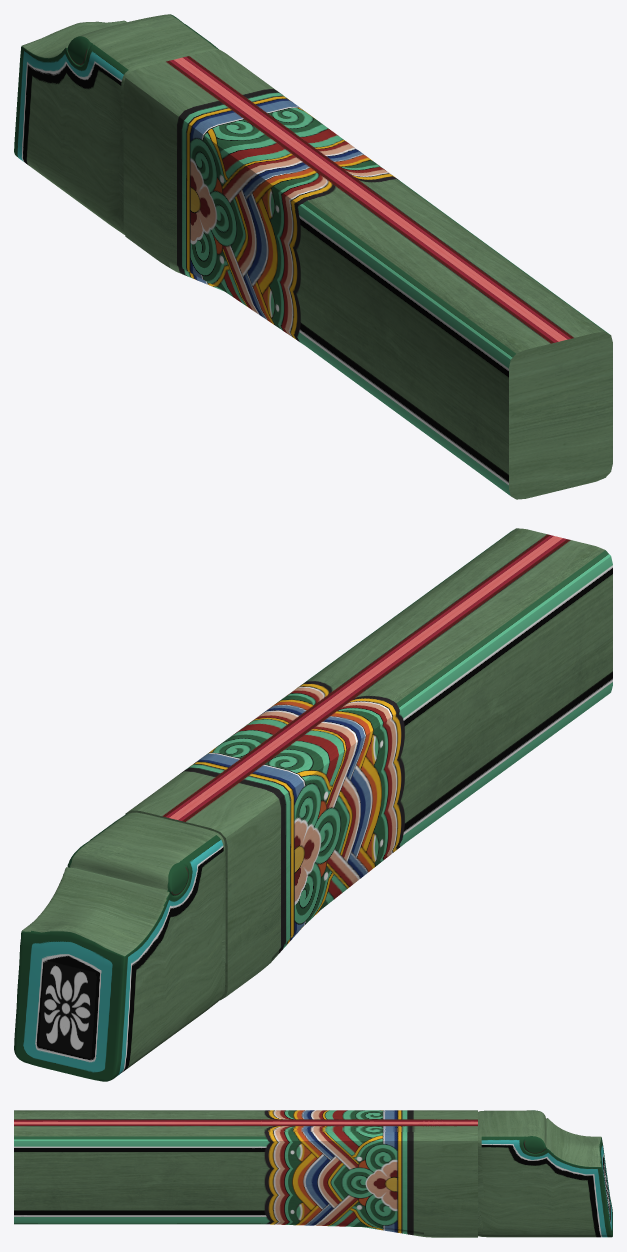
Rendered from SM_SJJ_HG_Beam01A.fbx.
3 views of the same model, one above another, from view 1: azimuth 30°, elevation 25°; view 2: azimuth 150°, elevation 25°; view 3: azimuth 270°, elevation 25° (orthographic). The views are drawn at different scales.
Parts seen in each view (by area): view 1: SM_SJJ_HG_Beam01A; view 2: SM_SJJ_HG_Beam01A; view 3: SM_SJJ_HG_Beam01A.
Part boxes in pixels (<box>): SM_SJJ_HG_Beam01A: <box>14,14,612,499</box>; SM_SJJ_HG_Beam01A: <box>14,528,612,1081</box>; SM_SJJ_HG_Beam01A: <box>14,1110,612,1237</box>.
Size of the model in its own units: 22.77 by 188 by 35.84.
1 material, 1 textured.
